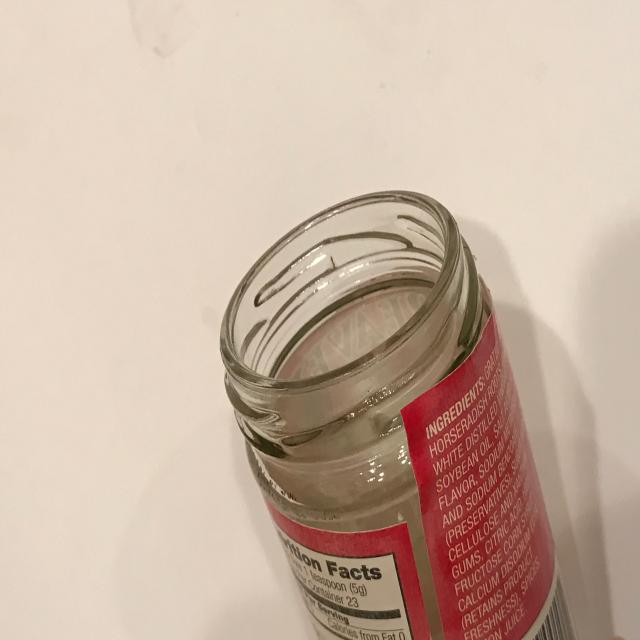glass: (219, 188, 582, 640)
